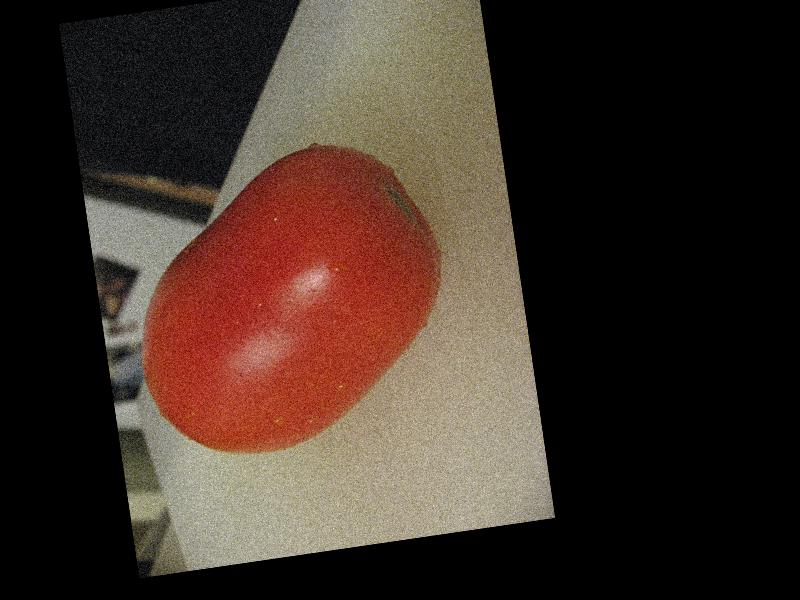Tomato: (113, 130, 462, 467)
